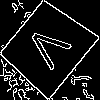V: (22, 22, 80, 77)
